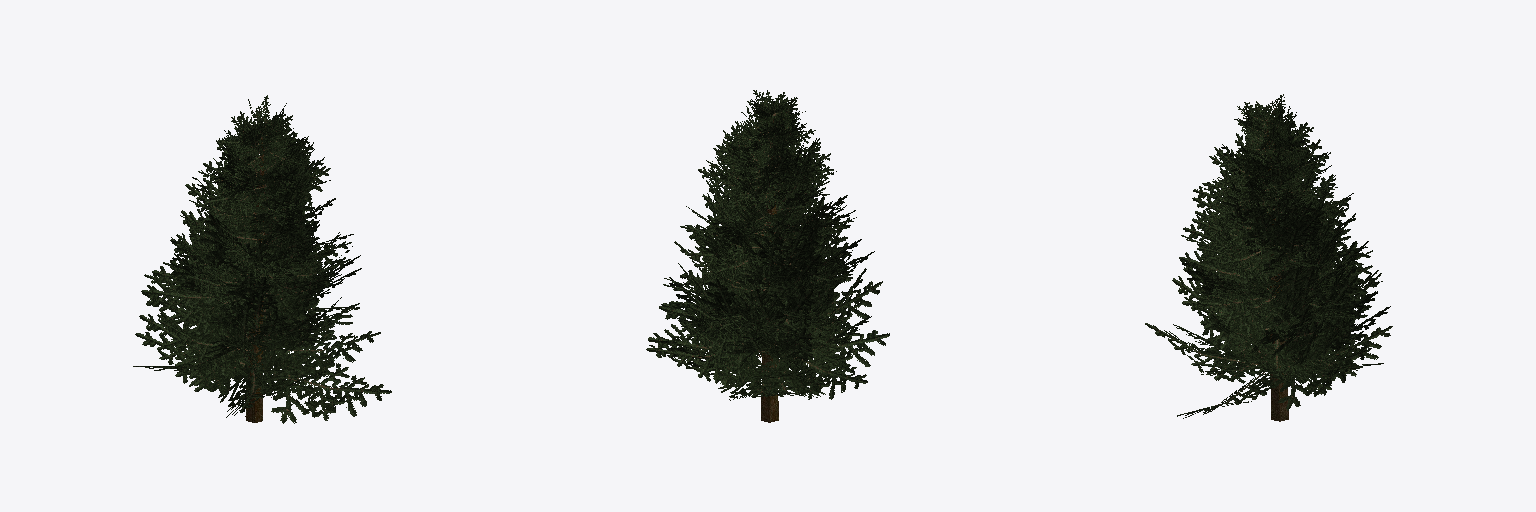
The picture shows the model from 3 angles: view 1: azimuth 30°, elevation 25°; view 2: azimuth 150°, elevation 25°; view 3: azimuth 270°, elevation 25°; orthographic projection.
Parts seen in each view (by area): view 1: Default; view 2: Default; view 3: Default.
Boxes of the visible parts, box(x1,y1,x2,y2) form: Default: box(133, 95, 391, 423); Default: box(646, 90, 889, 422); Default: box(1145, 94, 1392, 421).
Size of the model in its own units: 8.66 by 10.73 by 8.78.
2 materials, 2 textured.